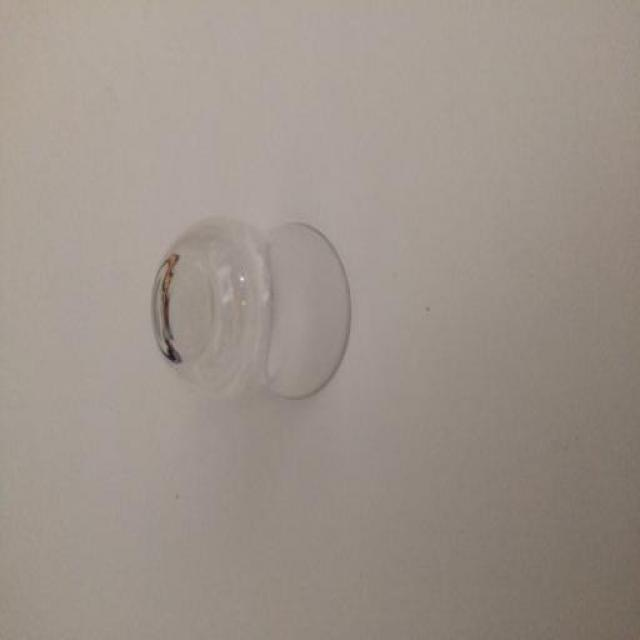Waste: (152, 217, 351, 398)
